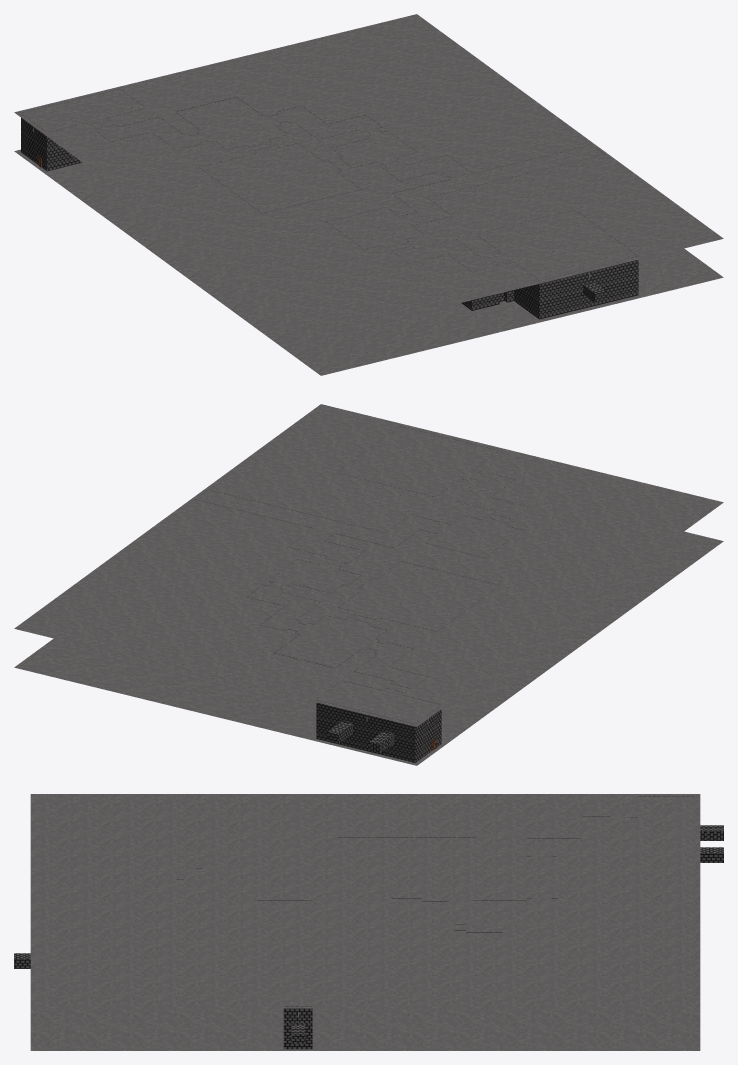
Rendered from level1_v1.fbx.
The picture shows the model from 3 angles, top to bottom: view 1: azimuth 30°, elevation 25°; view 2: azimuth 150°, elevation 25°; view 3: azimuth 270°, elevation 25°; orthographic projection. The views are drawn at different scales.
Visible parts, largest first — view 1: pPlane3, pPlane2, pCube1; view 2: pPlane3, pPlane2, pCube1; view 3: pPlane3, pPlane2, pCube1.
Boxes of the visible parts, x1,y1,x2,y2 form: pPlane3: (14,14,723,336); pPlane2: (14,149,723,375); pCube1: (21,89,638,319); pPlane3: (14,404,723,726); pPlane2: (14,531,723,765); pCube1: (195,426,528,762); pPlane3: (30,794,700,1008); pPlane2: (30,1008,700,1050); pCube1: (14,796,723,1049).
Size of the model in its own units: 4206 by 379 by 5667.
